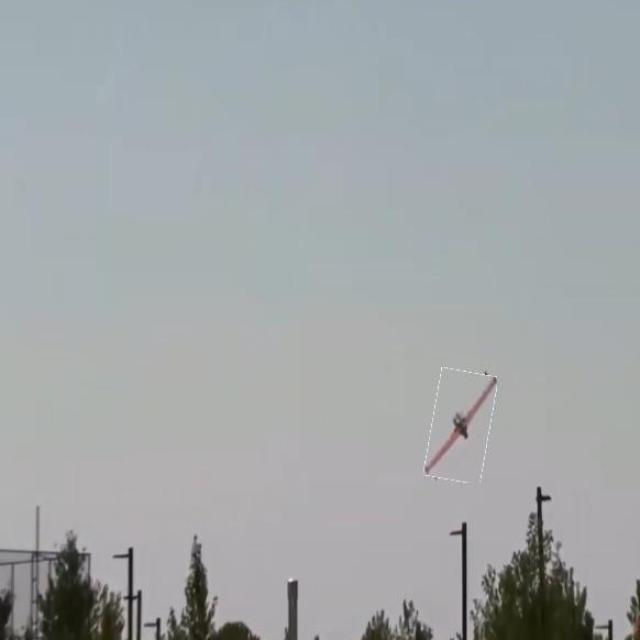plane: (421, 364, 498, 485)
